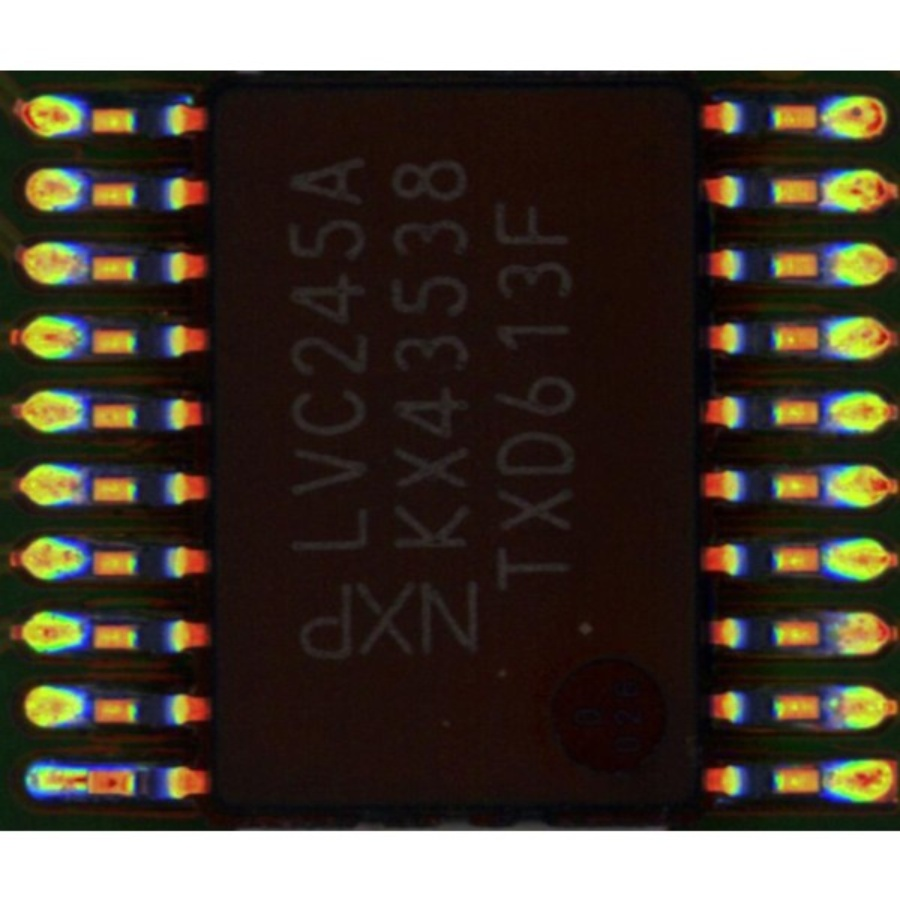Bad_podu: (59, 774, 108, 788)
